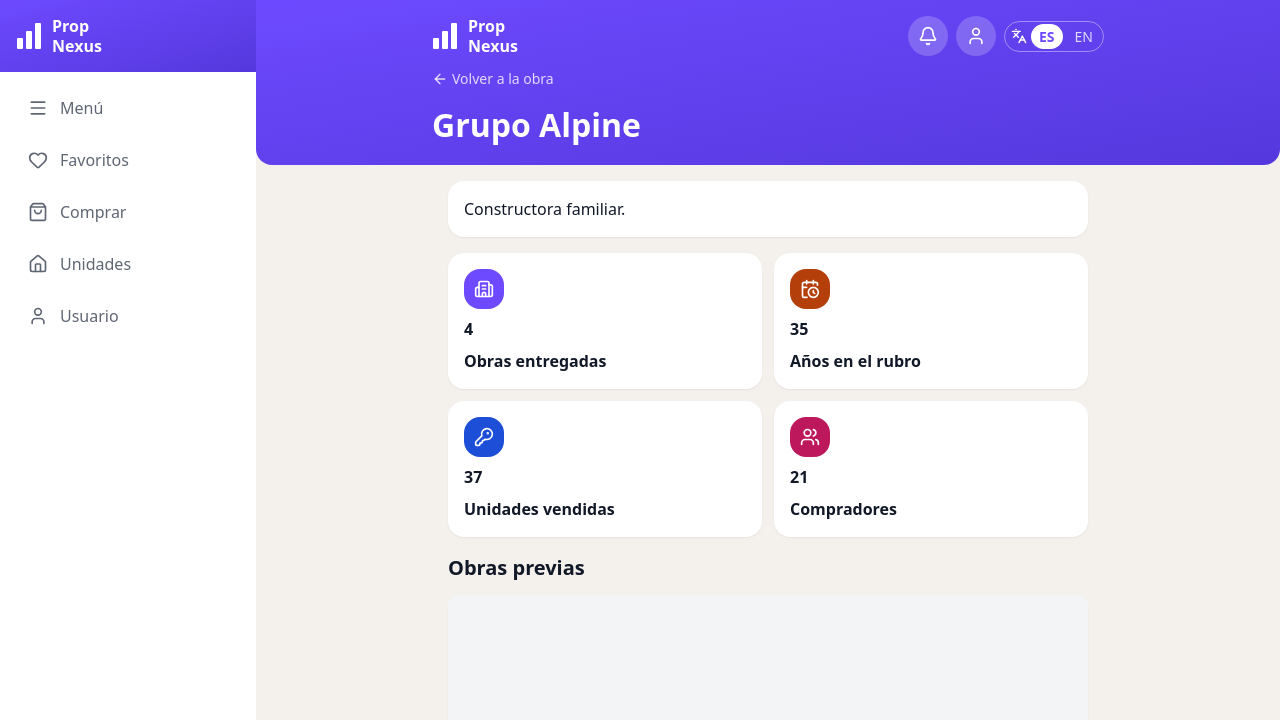
Scenario: /project/:projectId/developer (investor) › volver lleva a la obra desde el perfil
Click the button "Volver a la obra".
click(493, 78)  # box [432, 68, 554, 89]
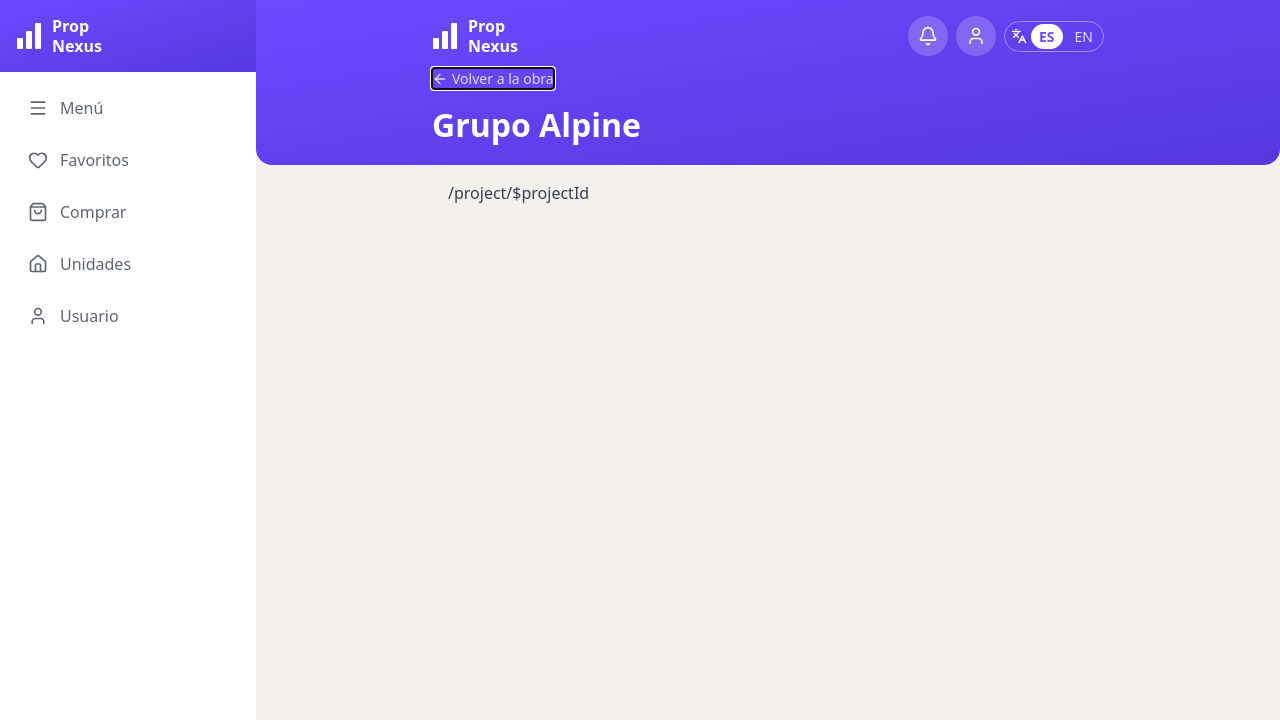
Expected: the text "/project/$projectId" is shown, [448, 182, 589, 204]
